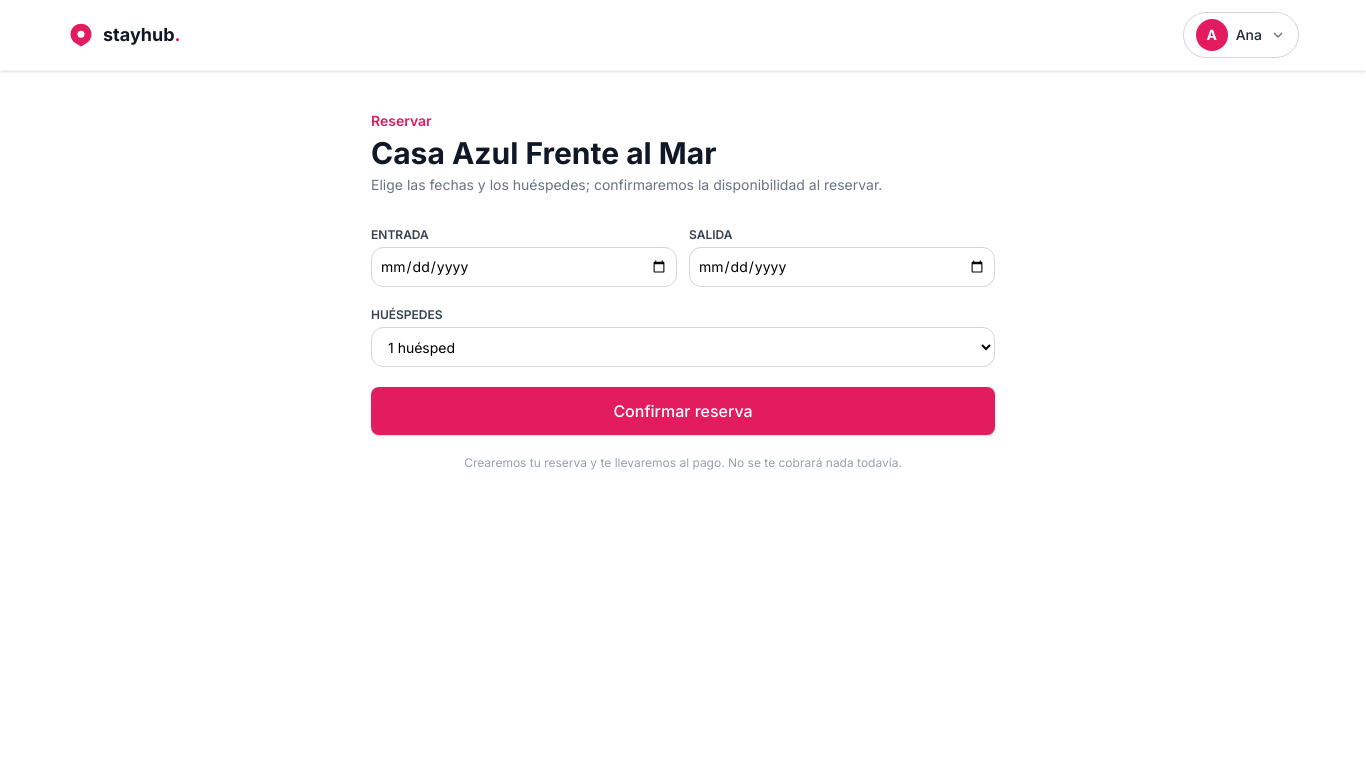
Test: Booking flow — dates and total › rejects dates in the past
The width and height of the screenshot is (1366, 768).
Expected: the heading "Casa Azul Frente al Mar" is shown, [371, 135, 716, 171]
Type "2026-11-01" into the date field labelled "ENTRADA" at point(524, 267), box [371, 247, 677, 287]
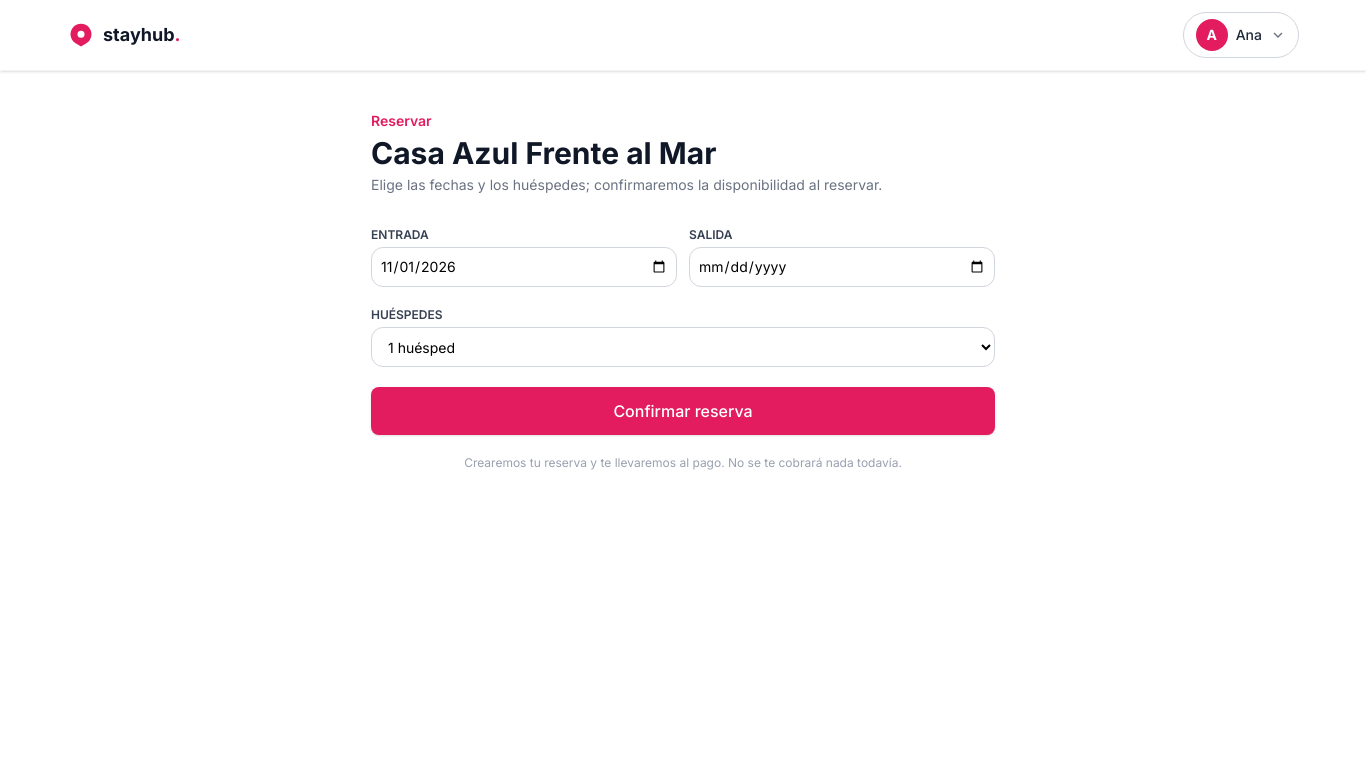
Type "2027-01-08" into the date field labelled "SALIDA" at point(842, 267), box [689, 247, 995, 287]
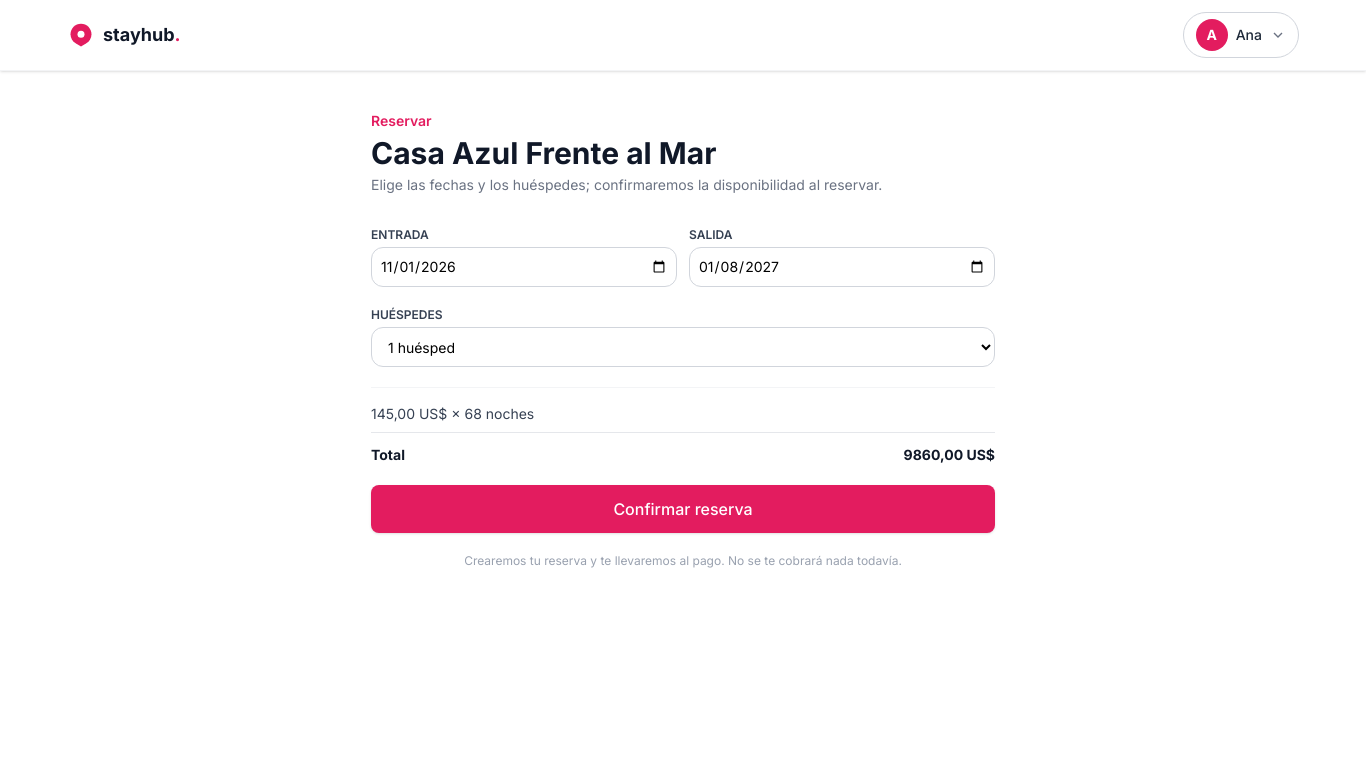
Click the button "Confirmar reserva" at point(683, 509), box [371, 485, 995, 533]
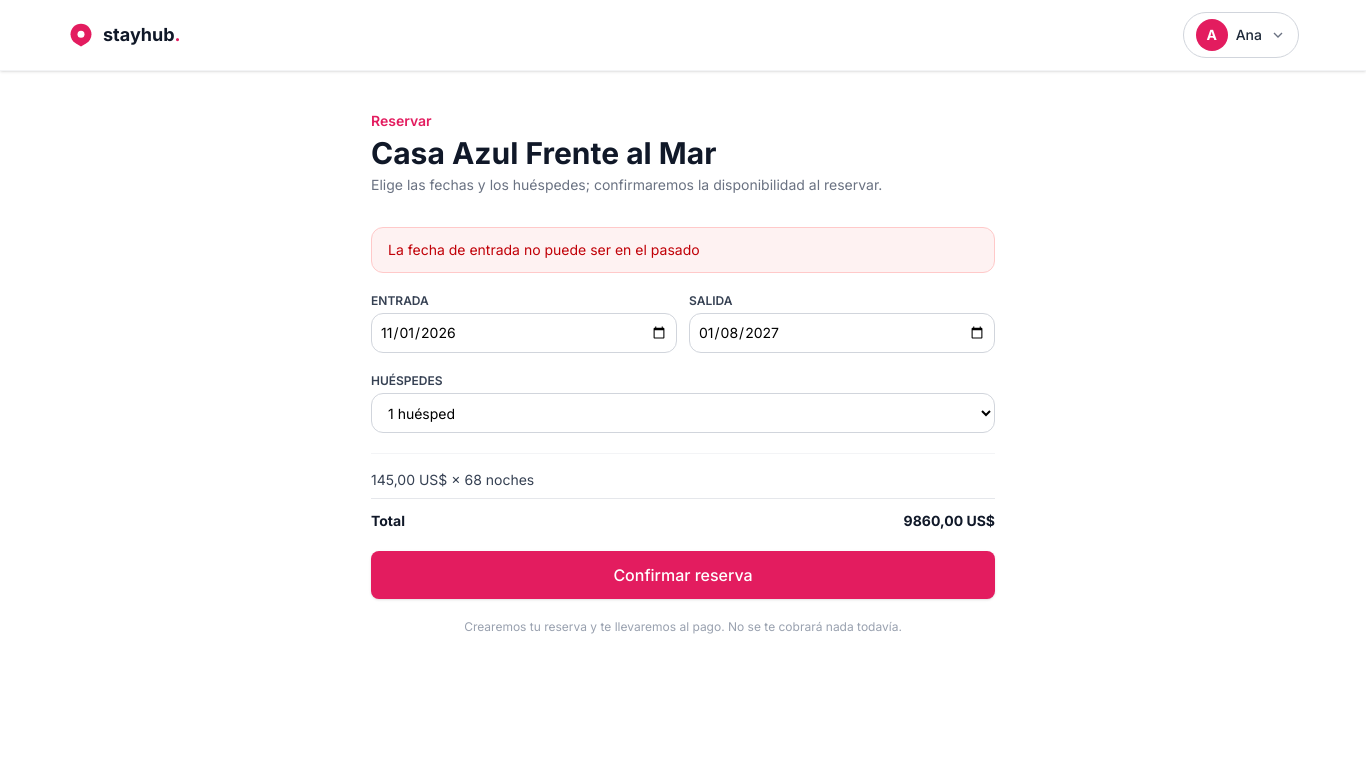
Expected: the text "La fecha de entrada no puede ser en el pasado" is shown, [388, 241, 700, 258]
